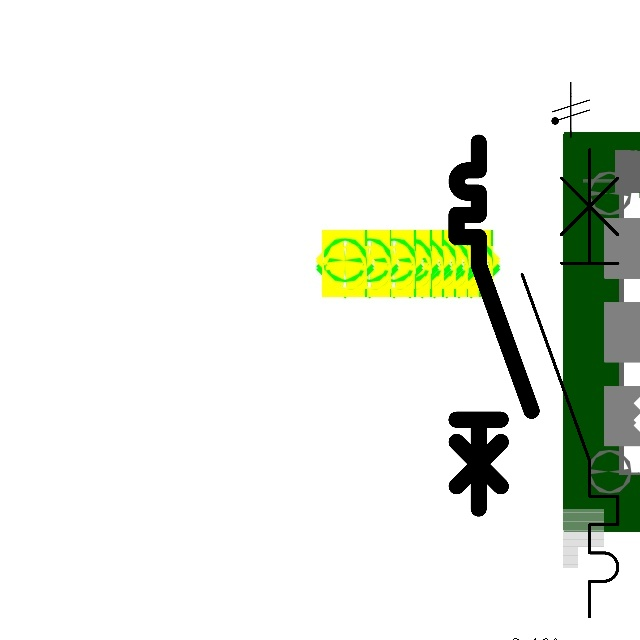interruptor_termomagnetico: (510, 137, 630, 628), (447, 133, 541, 518)
